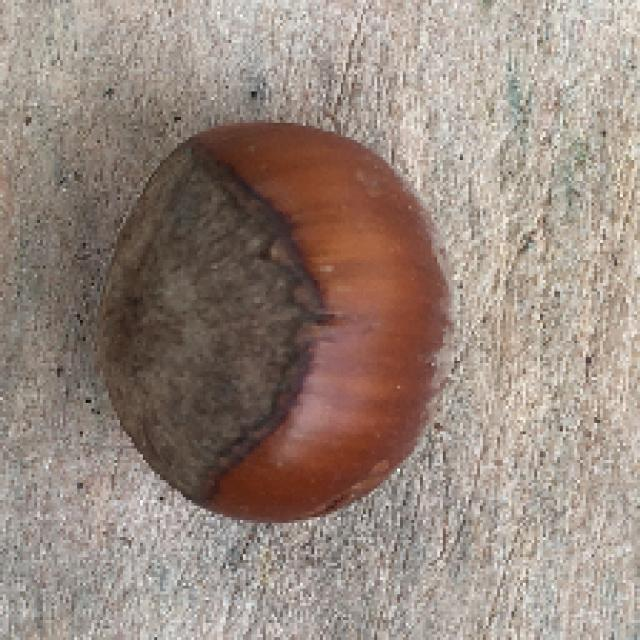QualityHazelnut: (98, 124, 457, 532)
